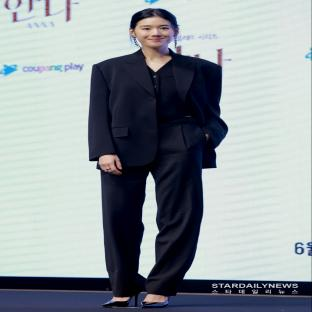Human: (88, 8, 228, 308)
